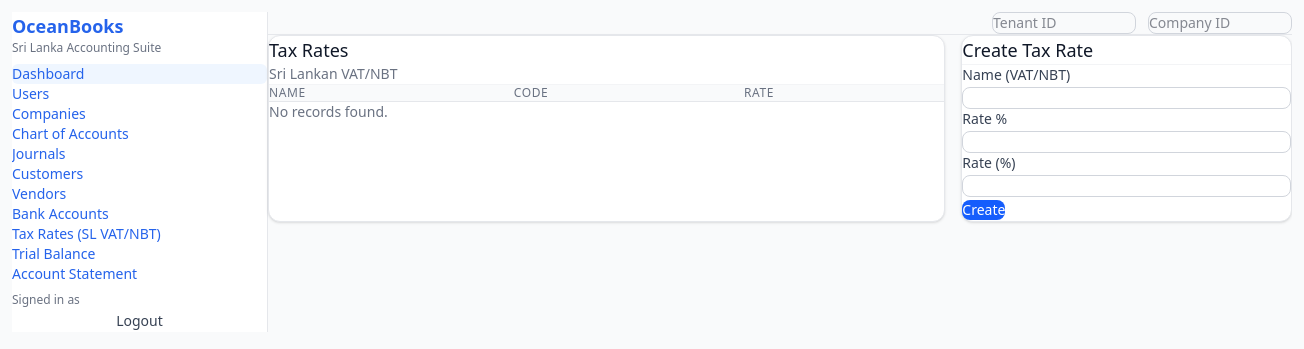
Test: Masters - Tax Rates › validates rate must be between 0 and 100
Type "VAT" into the field labelled "Name (VAT/NBT)" at (1127, 98), box [962,87,1291,109]
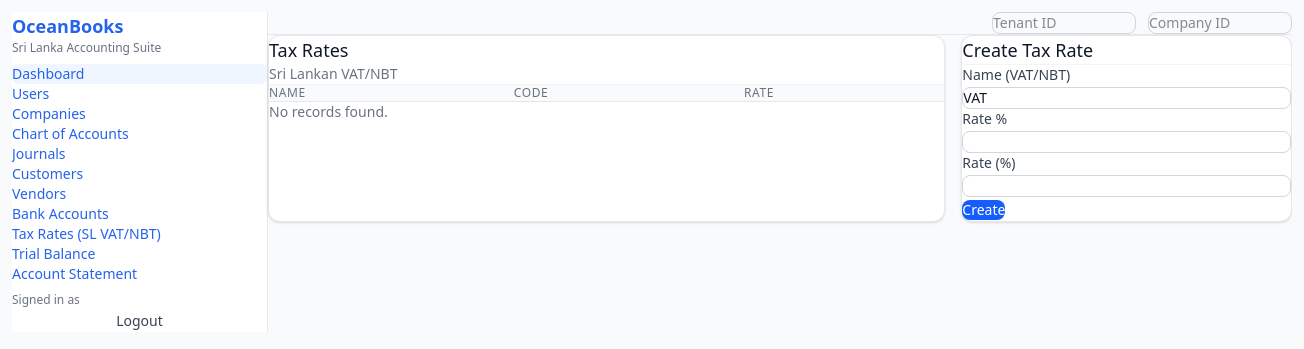
Type "150" into the number field labelled "Rate (%)" at (1127, 186), box [962,175,1291,197]
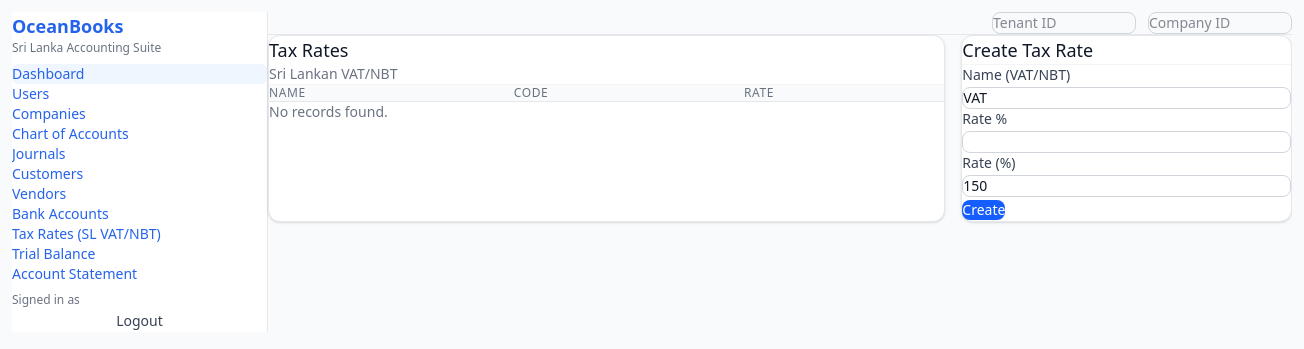
Click the button "Create" at (984, 210), box [962,200,1005,220]
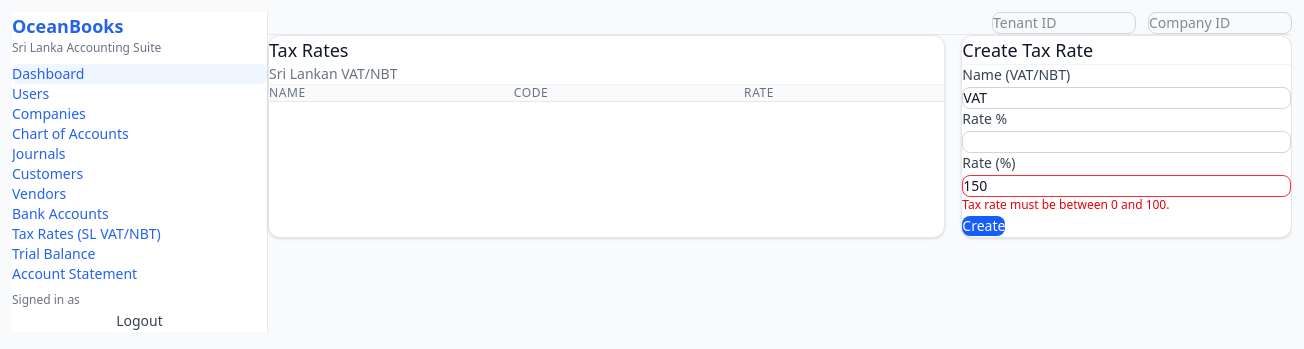
expect the text "Tax rate must be between 0 and 100." is shown: met, box [962,196,1169,213]
